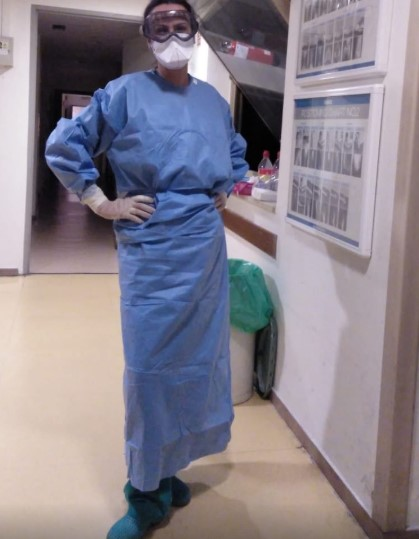face_with_mask: (138, 0, 203, 74)
